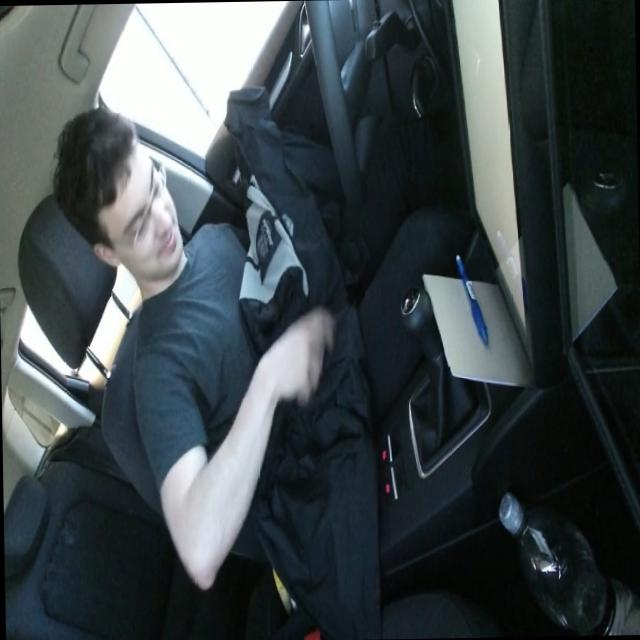pen: (454, 250, 488, 346)
